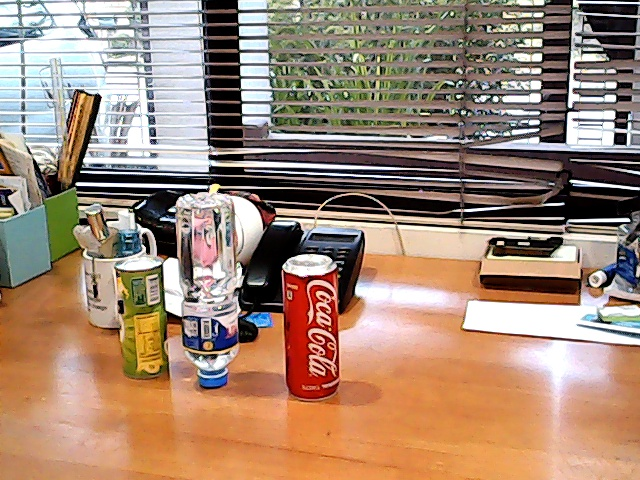Cola: (266, 240, 359, 413)
Pine Juice: (104, 244, 173, 389)
Summit Water: (177, 182, 252, 401)
